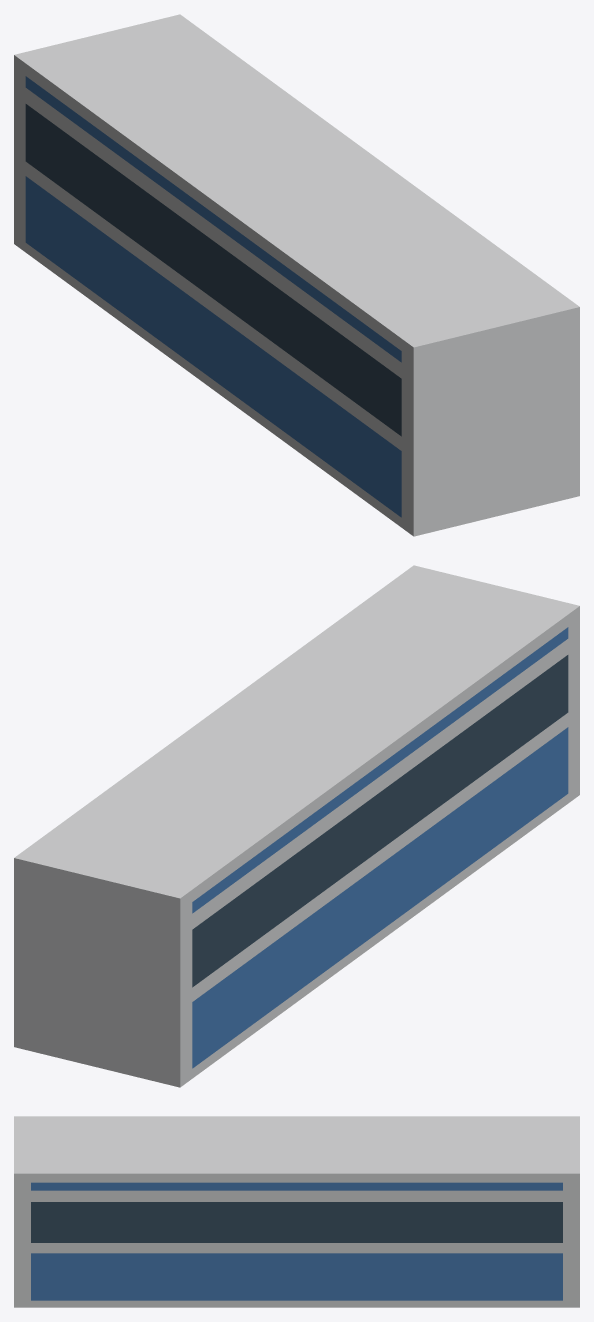
File: middle_4_far.fbx
3 views of the same model, one above another, from view 1: azimuth 30°, elevation 25°; view 2: azimuth 150°, elevation 25°; view 3: azimuth 270°, elevation 25° (orthographic). The views are drawn at different scales.
Visible parts, largest first — view 1: 14_middle_4_far; view 2: 14_middle_4_far; view 3: 14_middle_4_far.
Part boxes in pixels (<box>): 14_middle_4_far: <box>14,14,579,536</box>; 14_middle_4_far: <box>14,565,579,1087</box>; 14_middle_4_far: <box>14,1116,579,1307</box>.
Bounding box in the file's own units: 2.41 × 2.61 × 10.
